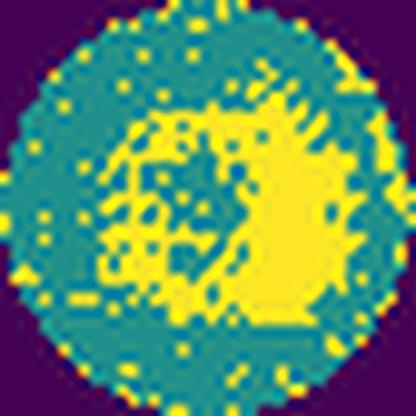Donut: (88, 98, 364, 328)
